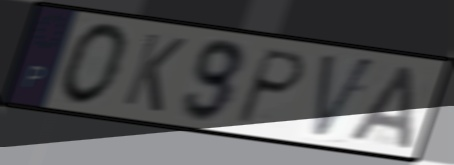9: (179, 38, 250, 126)
A: (346, 62, 418, 152)
K: (119, 30, 189, 116)
O: (57, 20, 133, 109)
P: (231, 46, 310, 128)
V: (310, 50, 380, 143)
